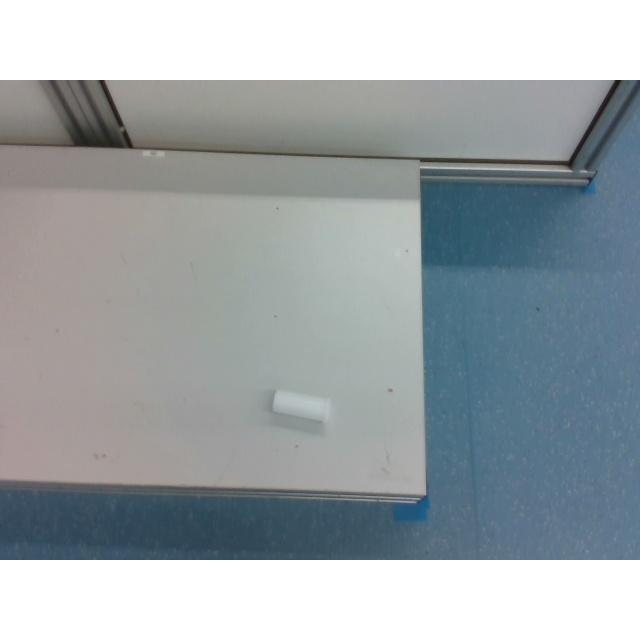Spacer: (272, 389, 330, 421)
